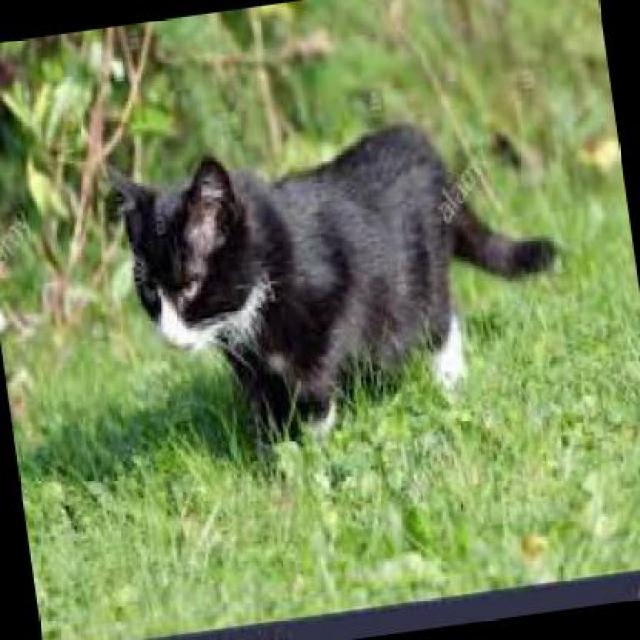animals: (106, 76, 579, 447)
